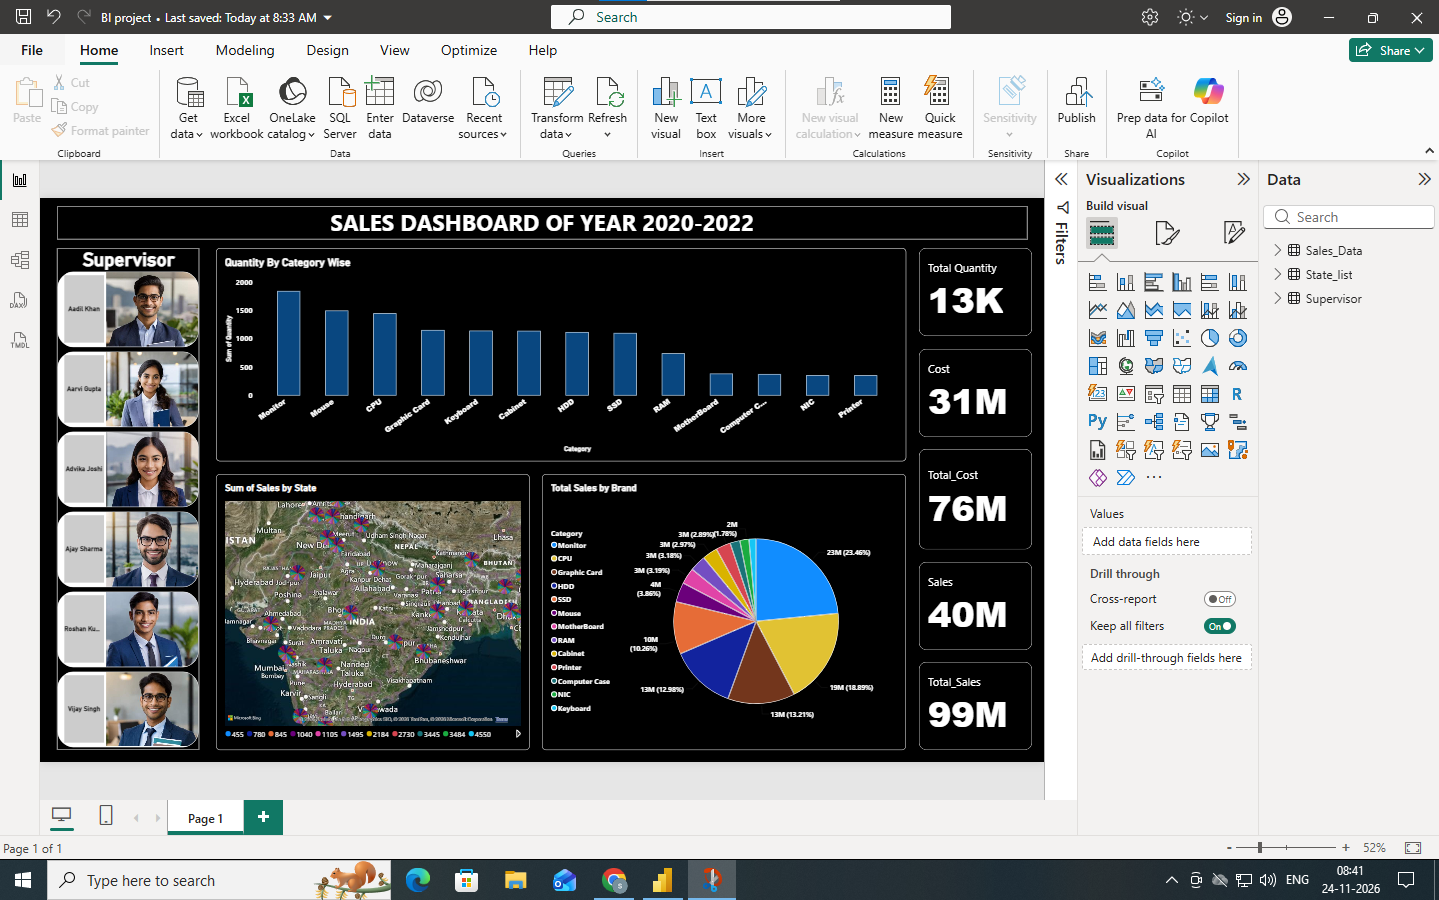

The page's visual inventory and layout, read from the dashboard file:
{"tool":"powerbi","page":{"name":"Page 1","canvas":[1920,1080],"ordinal":0},"visuals":[{"type":"advancedSlicerVisual","fields":{"Values":["Supervisor.Supervisor"]},"box":[32,96,272,960],"z":0},{"type":"cardVisual","fields":{"Data":["Sum(Sales_Data.Quantity)"]},"box":[1680,96,216,168],"z":2},{"type":"cardVisual","fields":{"Data":["Sum(Sales_Data.Total_Sales)"]},"box":[1680,888,216,168],"z":3},{"type":"cardVisual","fields":{"Data":["Sum(Sales_Data.Sales)"]},"box":[1680,696,216,168],"z":4},{"type":"cardVisual","fields":{"Data":["Sum(Sales_Data.Total_Cost)"]},"box":[1680,480,216,192],"z":5},{"type":"cardVisual","fields":{"Data":["Sum(Sales_Data.Cost)"]},"box":[1680,288,216,168],"z":6},{"type":"clusteredColumnChart","title":" Quantity By Category Wise","fields":{"Category":["Sales_Data.Category"],"Y":["Sum(Sales_Data.Quantity)"]},"box":[336,96,1320,408],"z":7},{"type":"map","title":"Sum of Sales by State","fields":{"Category":["State_list.State"],"Series":["Sales_Data.Sales"]},"box":[336,528,600,528],"z":8},{"type":"textbox","box":[936,528,720,528],"z":9},{"type":"pieChart","title":"Total Sales by Brand","fields":{"Category":["Sales_Data.Category"],"Y":["Sum(Sales_Data.Total_Sales)"]},"box":[960,528,696,528],"z":10},{"type":"textbox","box":[100,100,300,300],"z":11},{"type":"textbox","box":[32,16,1856,64],"z":12}]}

Visuals, with their boxes on the page's 1920x1080 design canvas (x1, y1, x2, y2). These are canvas units, not pixel positions in the 1439x900 screenshot, which may show the page scaled, cropped or inside an application window:
advancedSlicerVisual - Supervisor.Supervisor: (32,96,304,1056)
cardVisual - Sum(Sales_Data.Quantity): (1680,96,1896,264)
cardVisual - Sum(Sales_Data.Total_Sales): (1680,888,1896,1056)
cardVisual - Sum(Sales_Data.Sales): (1680,696,1896,864)
cardVisual - Sum(Sales_Data.Total_Cost): (1680,480,1896,672)
cardVisual - Sum(Sales_Data.Cost): (1680,288,1896,456)
" Quantity By Category Wise" clusteredColumnChart: (336,96,1656,504)
"Sum of Sales by State" map: (336,528,936,1056)
textbox: (936,528,1656,1056)
"Total Sales by Brand" pieChart: (960,528,1656,1056)
textbox: (100,100,400,400)
textbox: (32,16,1888,80)
